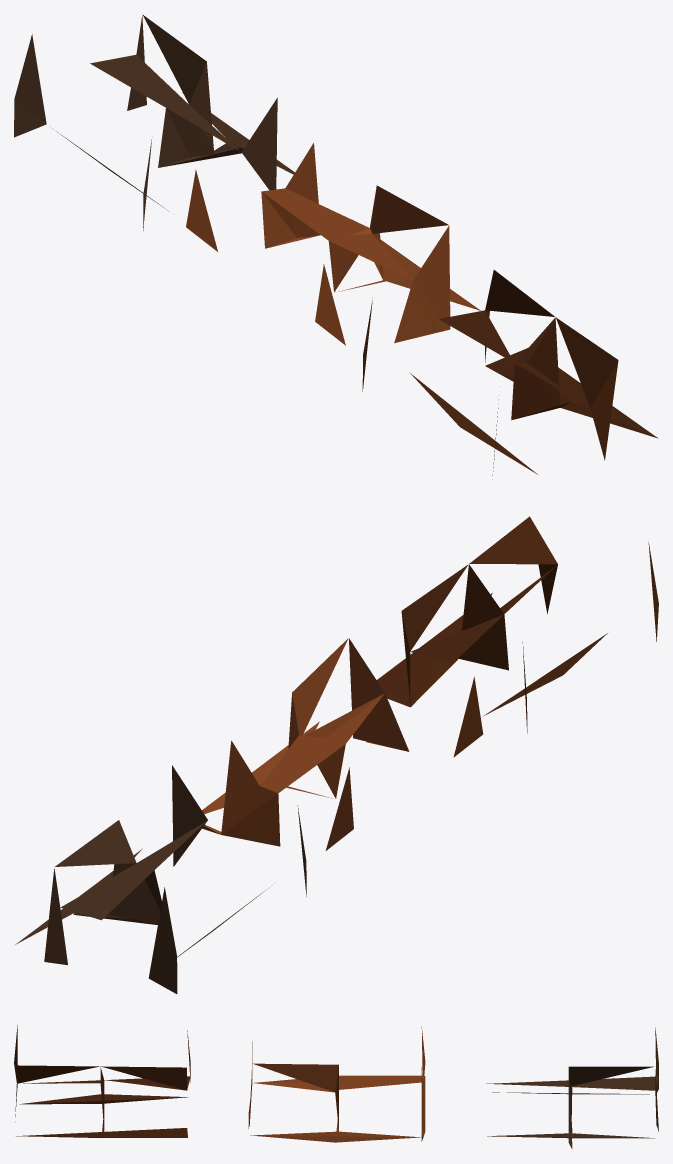
File: bw-pew.lod2.glb
3 views of the same model, one above another, from view 1: azimuth 30°, elevation 25°; view 2: azimuth 150°, elevation 25°; view 3: azimuth 270°, elevation 25° (orthographic). The views are drawn at different scales.
Visible parts, largest first — view 1: Object_6; view 2: Object_6; view 3: Object_6.
Boxes of the visible parts, x1,y1,x2,y2 form: Object_6: (14,14,658,479); Object_6: (15,516,658,993); Object_6: (14,1025,658,1148).
Size of the model in its own units: 0.6149 by 0.3816 by 3.
